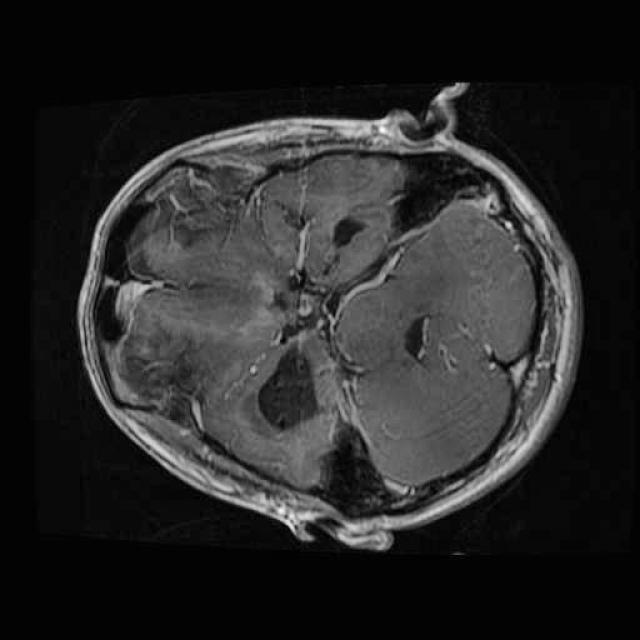Non-Tumor: (246, 329, 339, 444)
